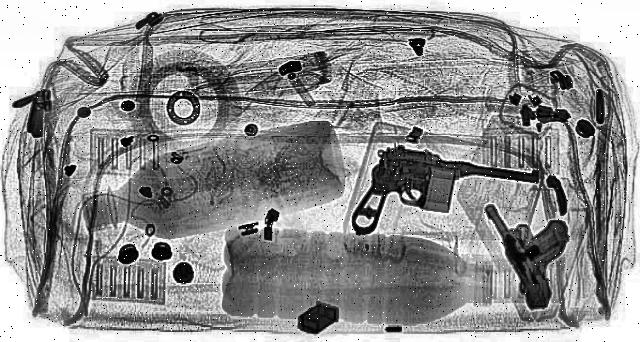Gun: (323, 146, 547, 258), (478, 199, 606, 311)
